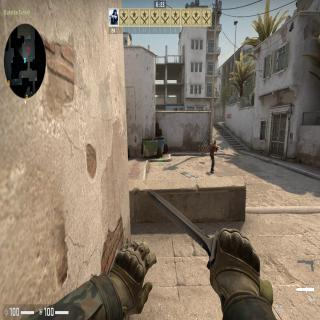T-Body: (210, 138, 218, 174)
T-Head: (213, 139, 217, 145)
